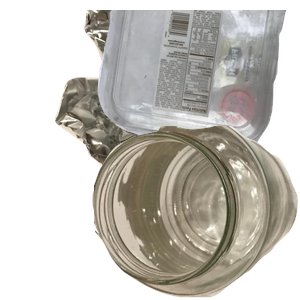glass: (94, 126, 300, 300)
metal: (52, 10, 292, 190)
plastic: (95, 10, 300, 154)
trash: (90, 129, 295, 300)
